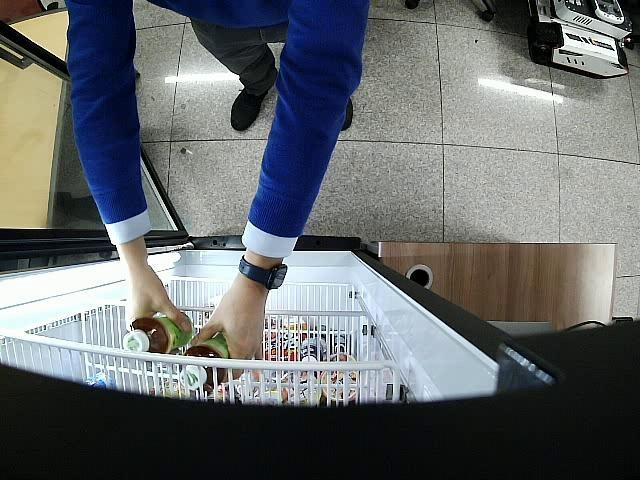19_17cha: (180, 338, 232, 391), (124, 313, 194, 352)
